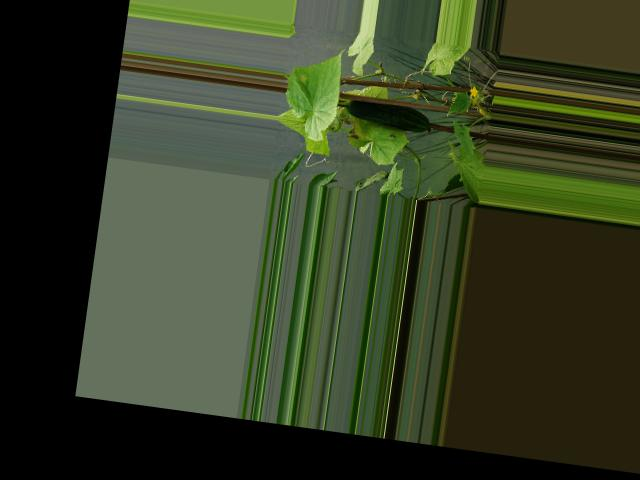cucumber: (344, 98, 433, 134)
